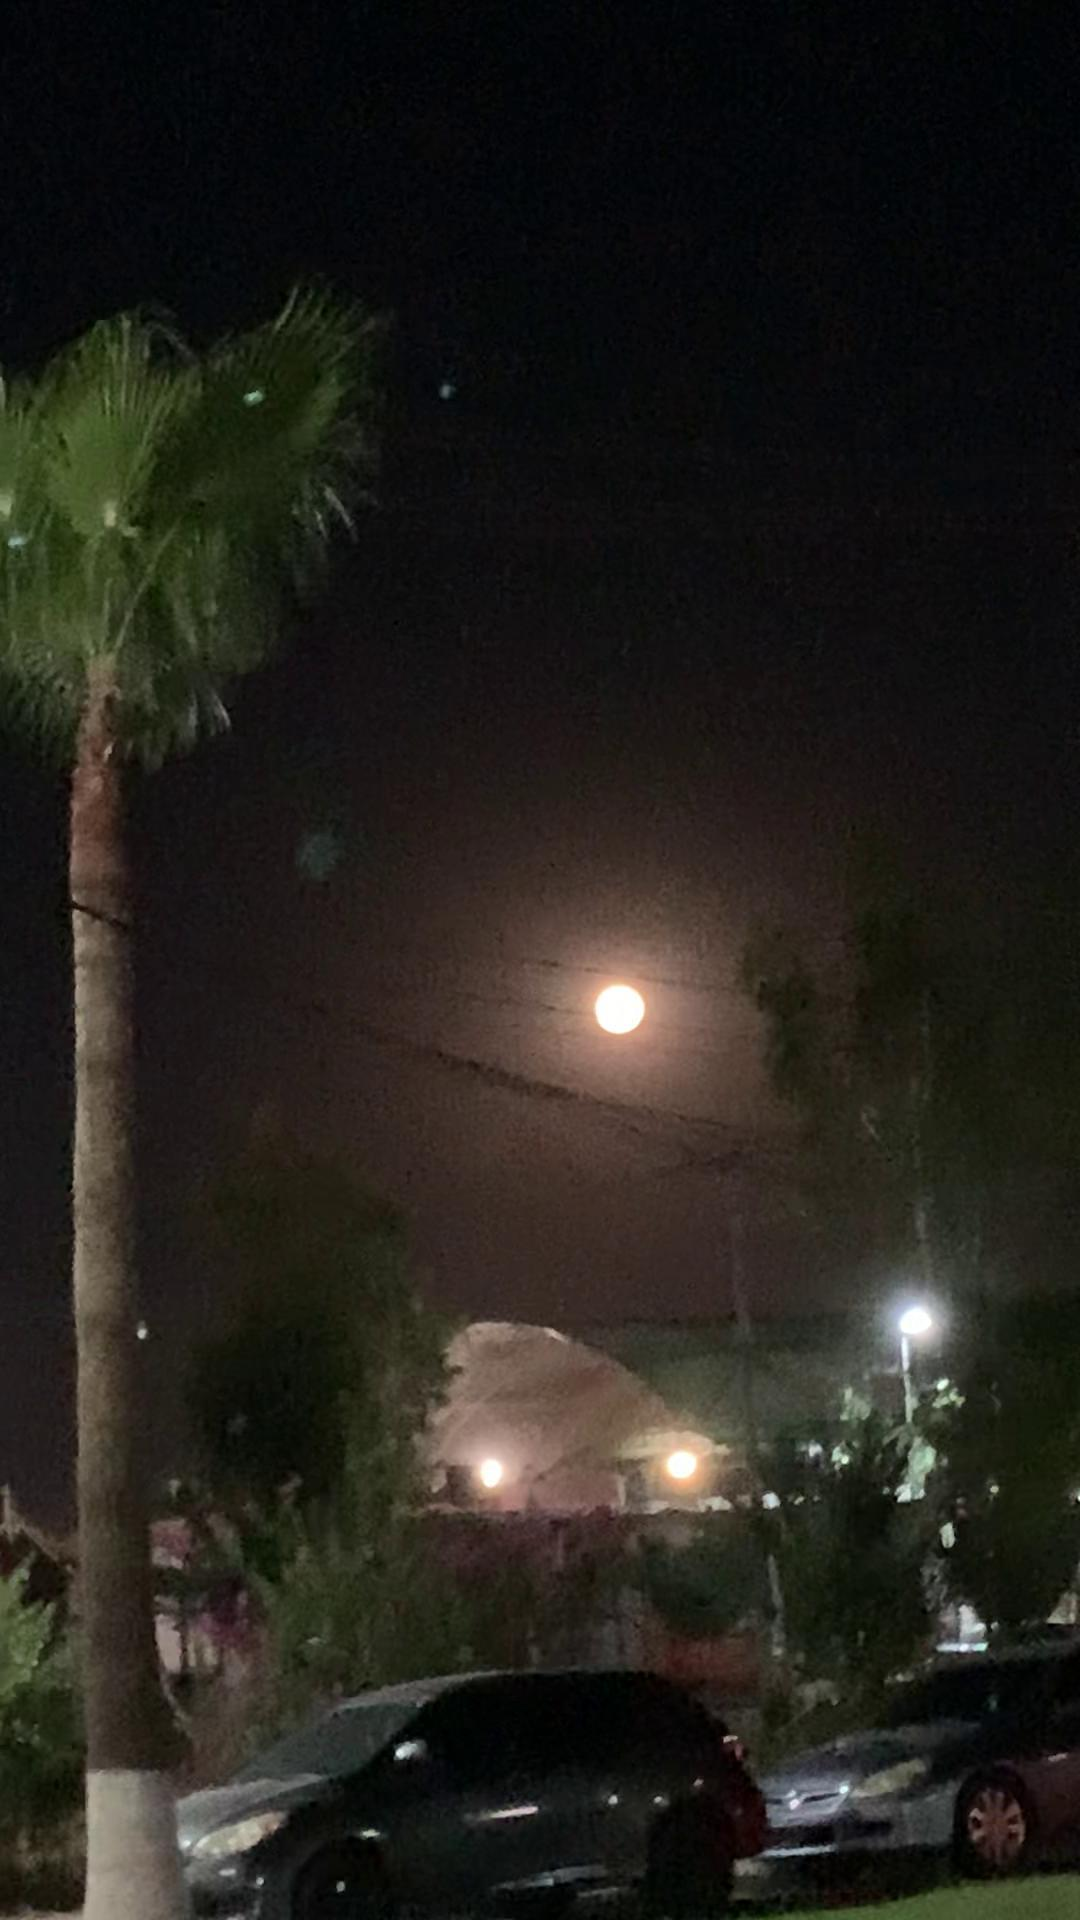moon: (578, 978, 659, 1036)
